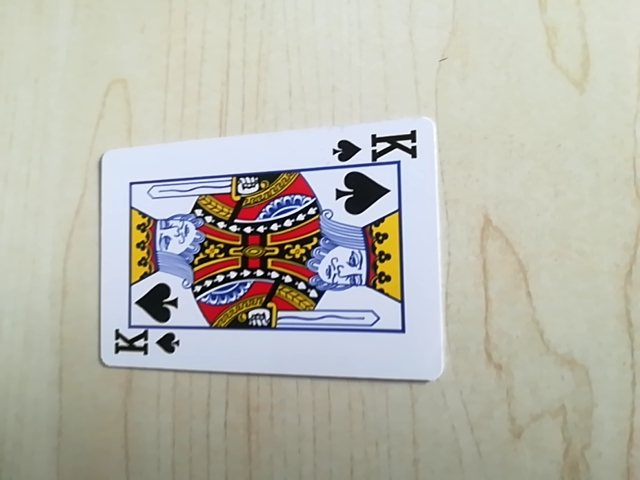ht k: (332, 127, 420, 166), (106, 326, 183, 364)
